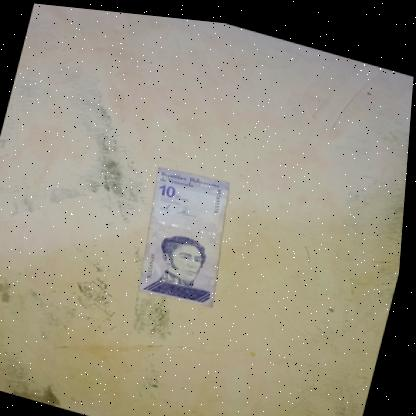vef_front: (129, 157, 246, 307)
